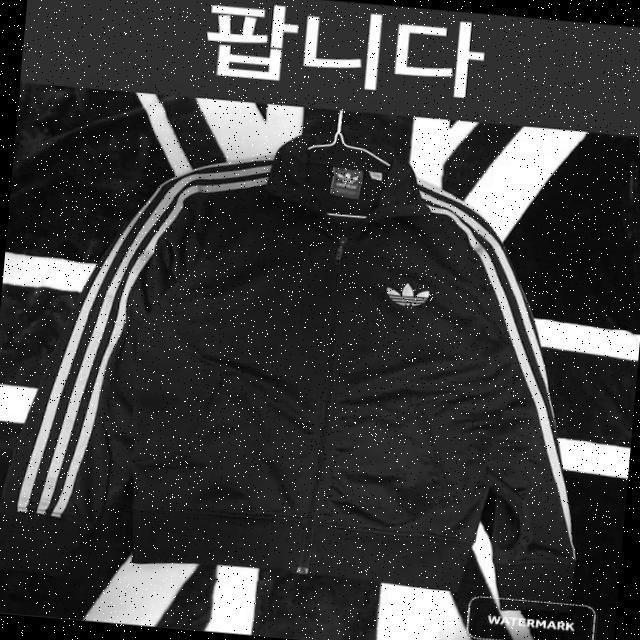Adidas: (374, 265, 448, 326), (328, 160, 371, 187)
